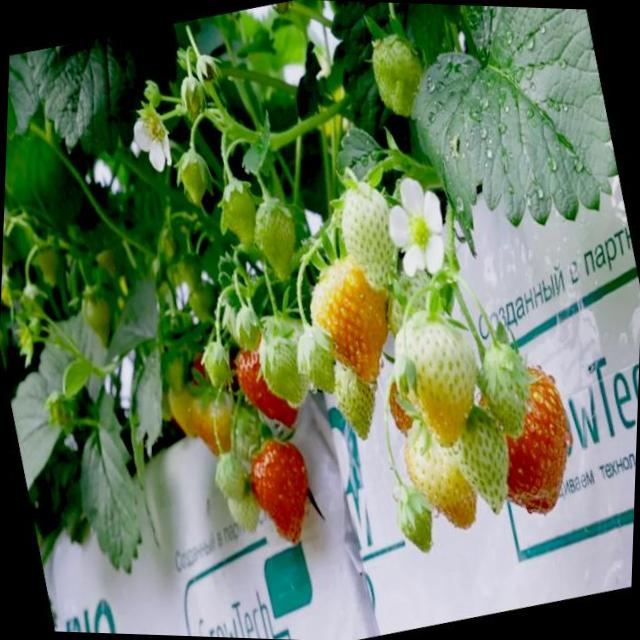ripe: (476, 356, 594, 522), (296, 248, 398, 392), (237, 430, 322, 556), (221, 321, 296, 432)
